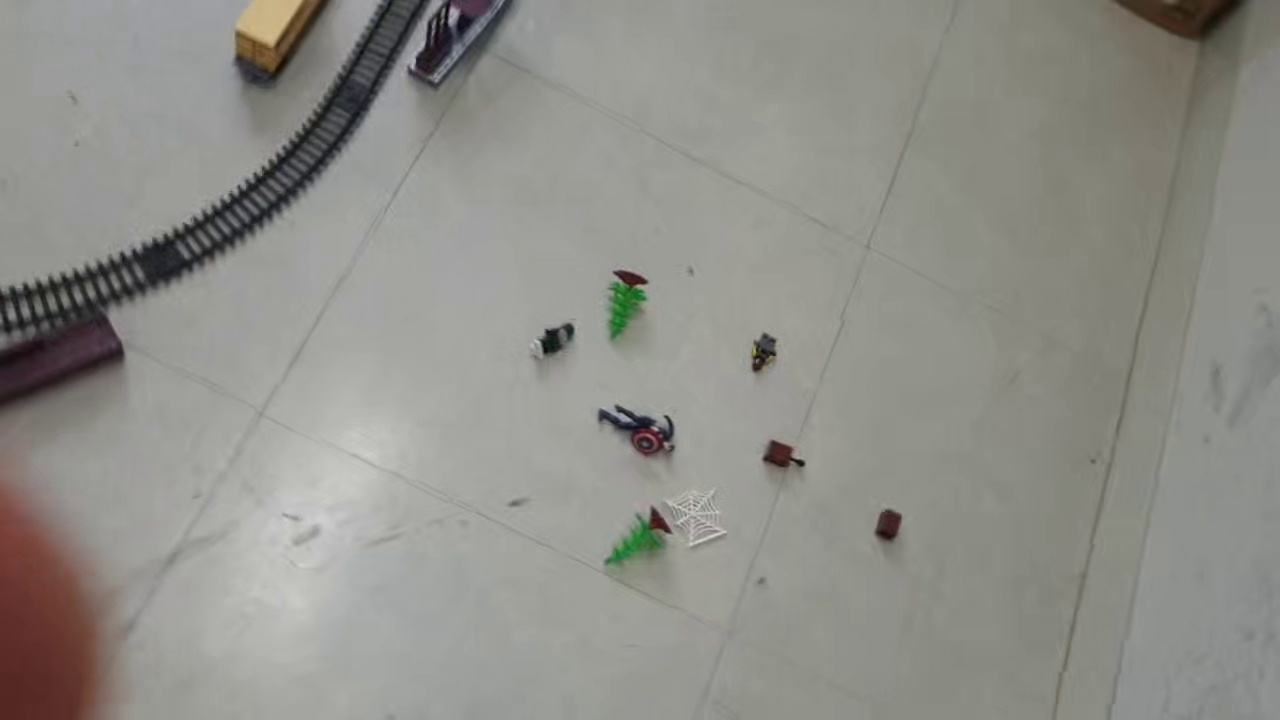box: (756, 438, 808, 471), (869, 507, 907, 547)
people: (593, 404, 680, 458), (529, 321, 576, 361), (745, 331, 779, 376)
tree: (599, 505, 674, 569), (600, 268, 650, 345)
web: (660, 482, 726, 550)
